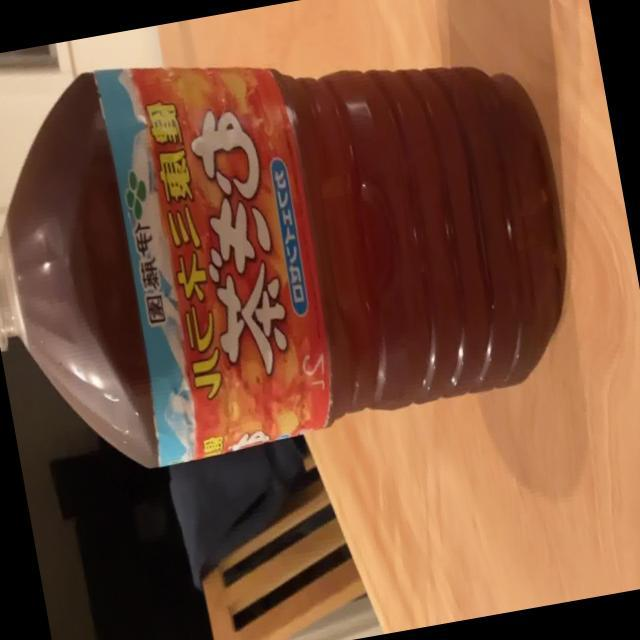good: (0, 0, 595, 492)
